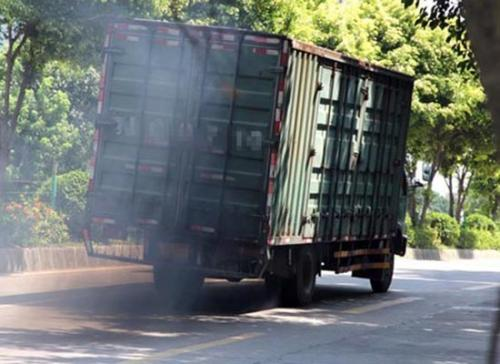smoke: (81, 241, 248, 325)
